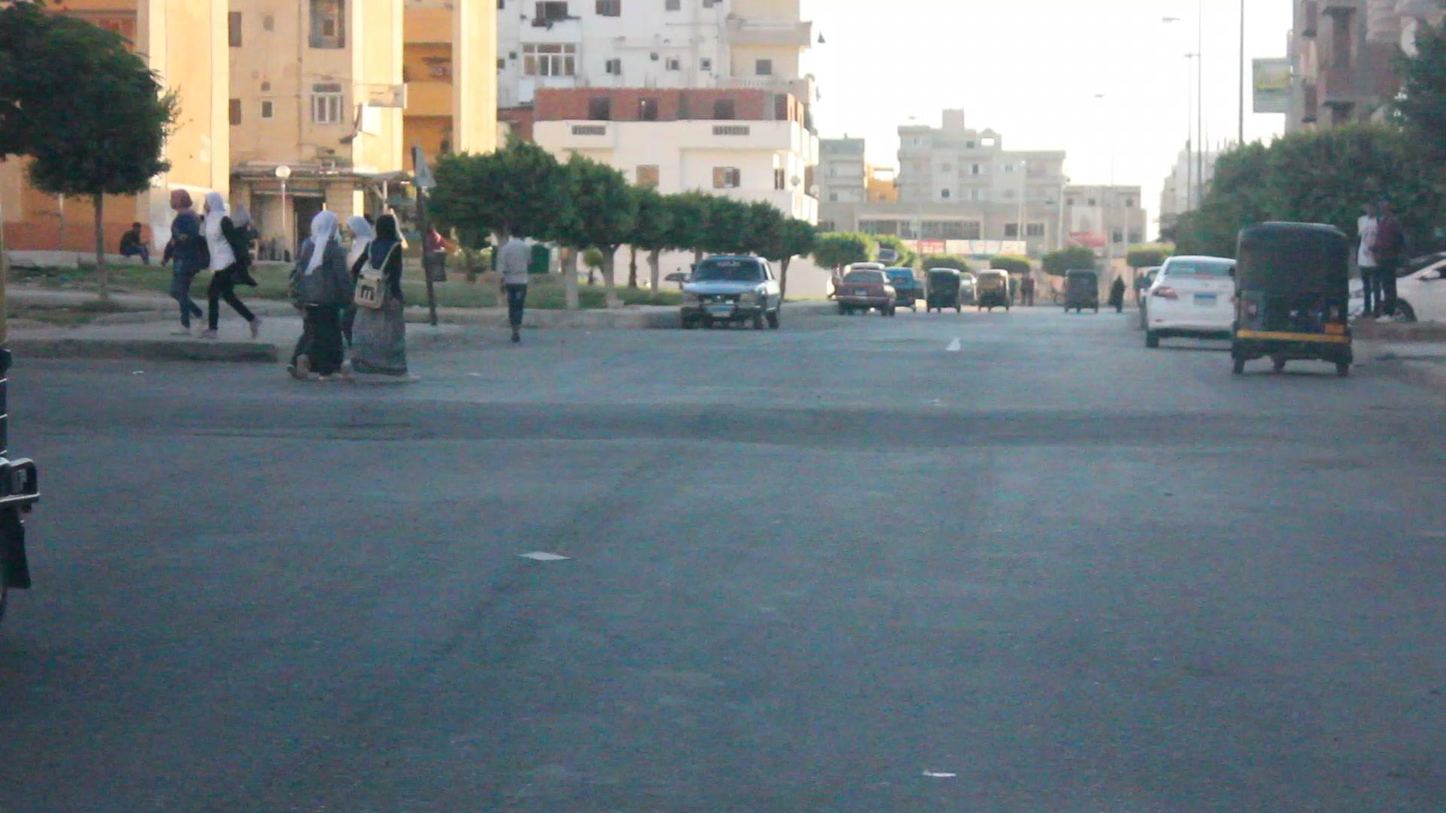Bump: (60, 361, 1446, 463)
